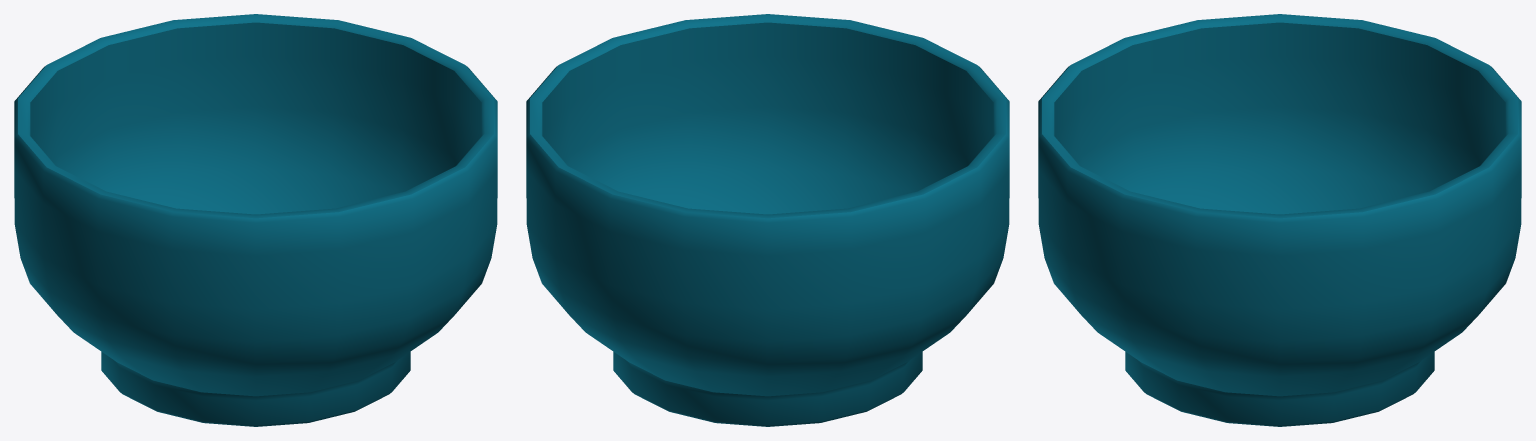
Rendered from st2_bowl_05-1.fbx.
3 views of the same model, side by side, from view 1: azimuth 30°, elevation 25°; view 2: azimuth 150°, elevation 25°; view 3: azimuth 270°, elevation 25° (orthographic).
Visible parts, largest first — view 1: st2_bowl_05-1_v1; view 2: st2_bowl_05-1_v1; view 3: st2_bowl_05-1_v1.
Boxes of the visible parts, <box> form: st2_bowl_05-1_v1: <box>14,14,497,426</box>; st2_bowl_05-1_v1: <box>526,14,1009,426</box>; st2_bowl_05-1_v1: <box>1038,14,1521,426</box>.
Size of the model in its own units: 78.59 by 43.45 by 77.4.
